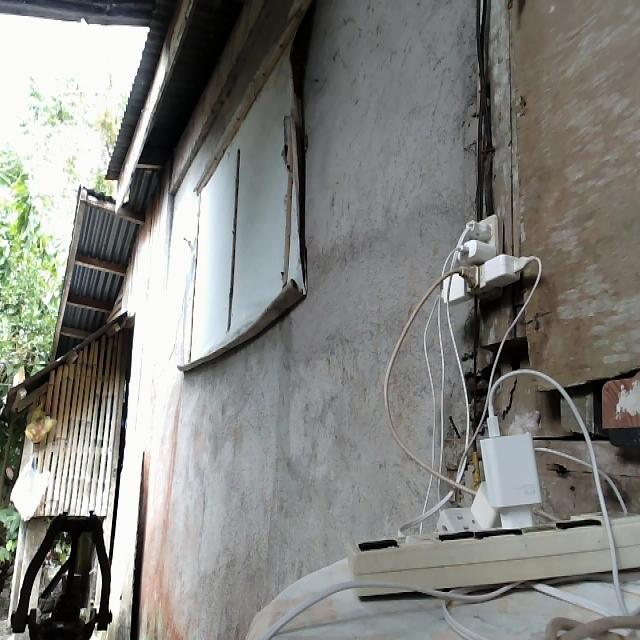-: (432, 210, 541, 302)
